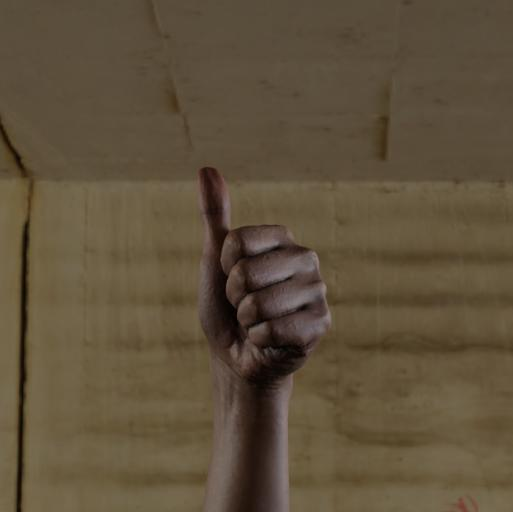thumbs-up: (196, 157, 335, 390)
